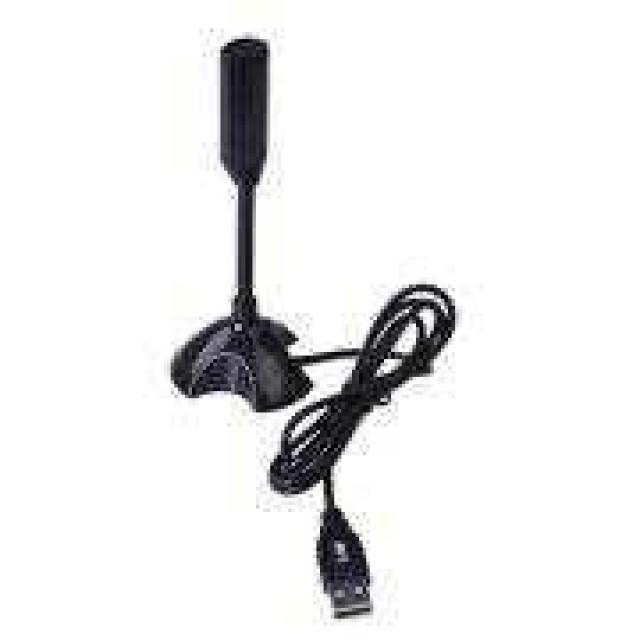microphone: (166, 34, 312, 407)
